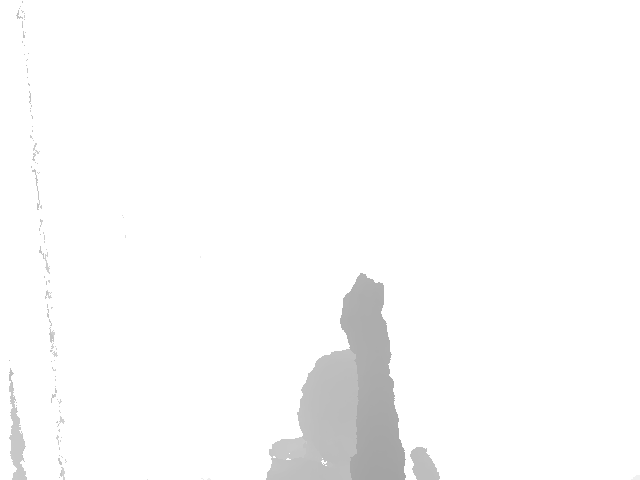hand: (340, 273, 391, 350)
head: (298, 348, 394, 445)
person: (265, 273, 441, 480)
